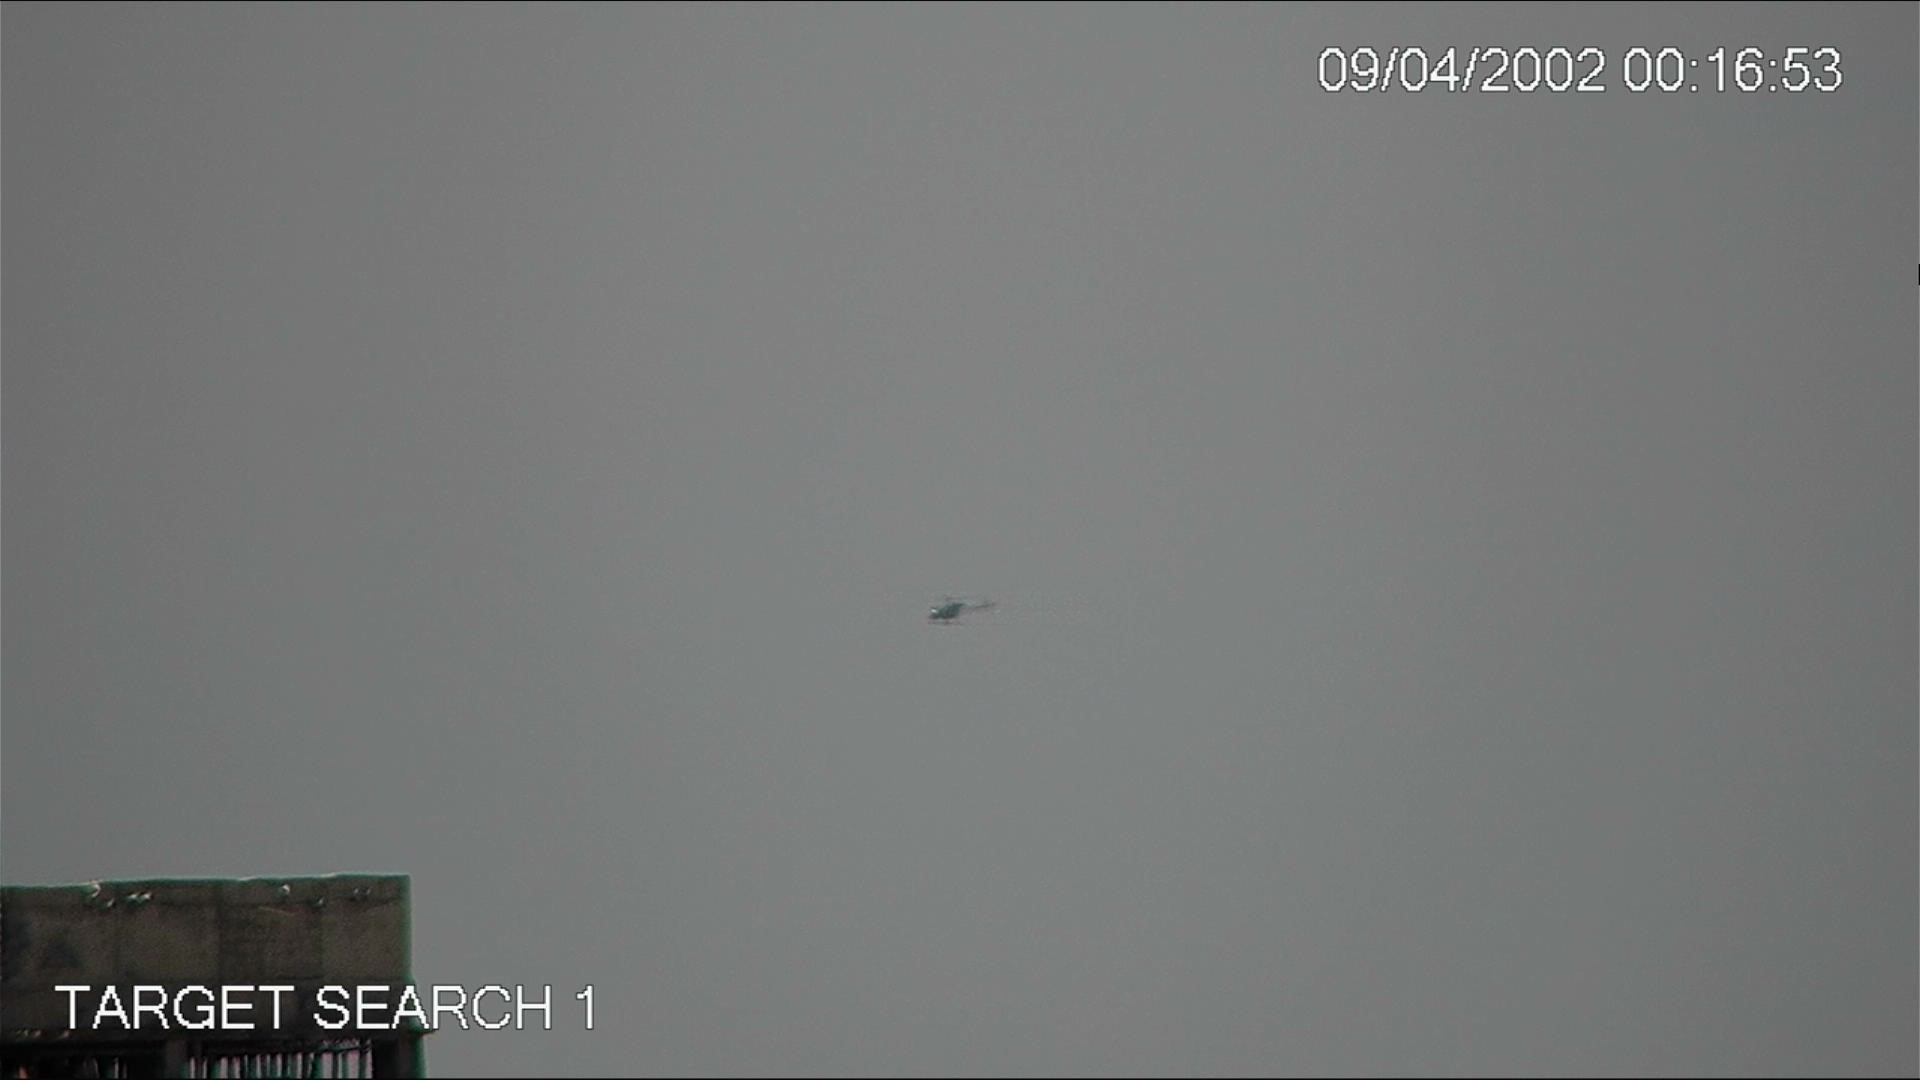SU_30: (924, 595, 967, 626)
